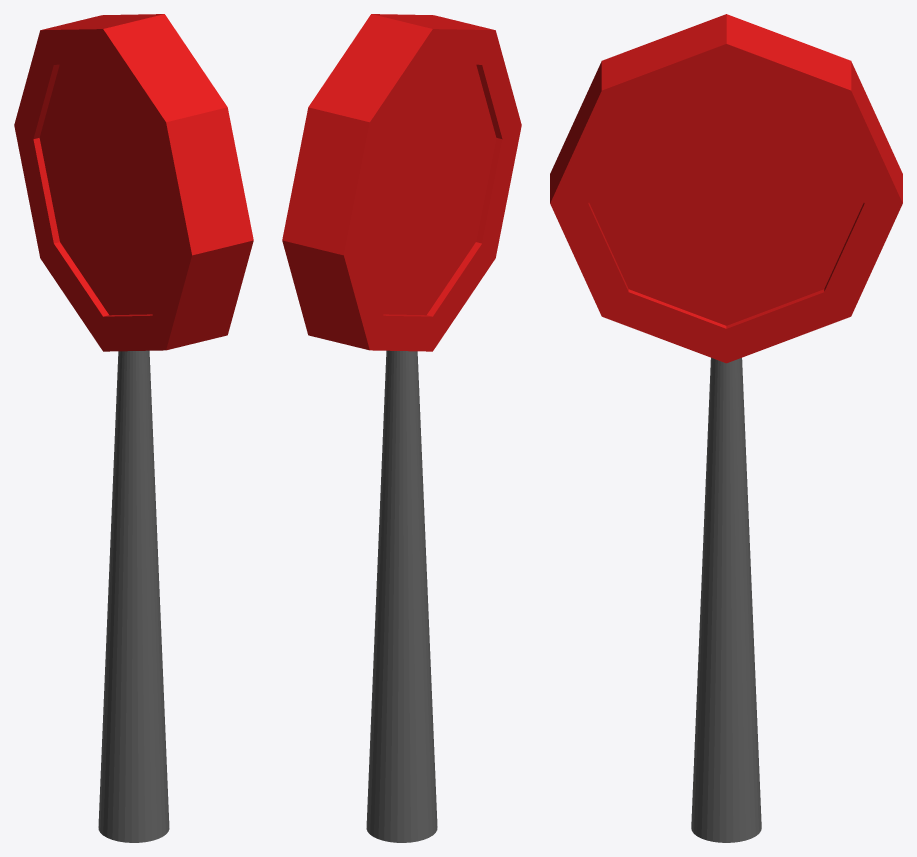
The model's file is StopSign.fbx.
3 views of the same model, side by side, from view 1: azimuth 30°, elevation 25°; view 2: azimuth 150°, elevation 25°; view 3: azimuth 270°, elevation 25° (orthographic).
Parts seen in each view (by area): view 1: Cylinder.001; view 2: Cylinder.001; view 3: Cylinder.001.
Boxes of the visible parts, x1,y1,x2,y2 form: Cylinder.001: (14, 14, 253, 842); Cylinder.001: (282, 14, 521, 842); Cylinder.001: (550, 14, 902, 842).
Size of the model in its own units: 100 by 1250 by 500.
